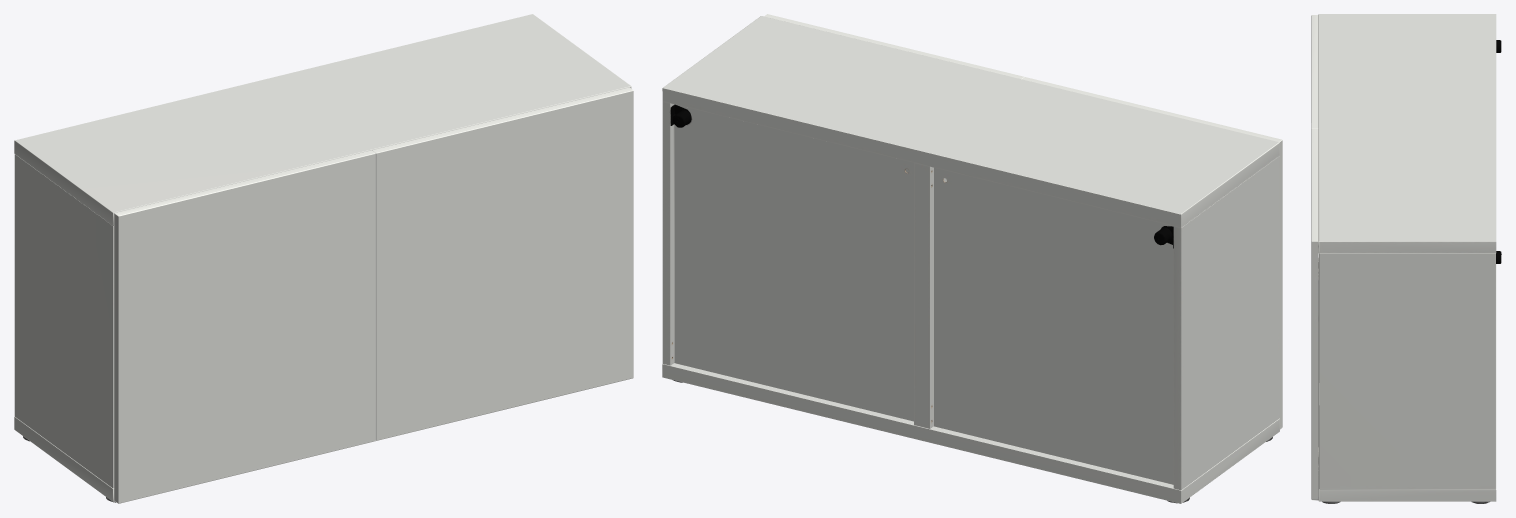
Rendered from 25 - BESTÅ Shelf unit with doors - whiteLappviken white 120x42x64 cm.glb.
3 renders of one model, left to right at view 1: azimuth 30°, elevation 25°; view 2: azimuth 150°, elevation 25°; view 3: azimuth 270°, elevation 25°, orthographic. The views are drawn at different scales.
Bounding box in the file's own units: 1.2 × 0.6481 × 0.4232.
Materials: 1 (1 with a texture image).
